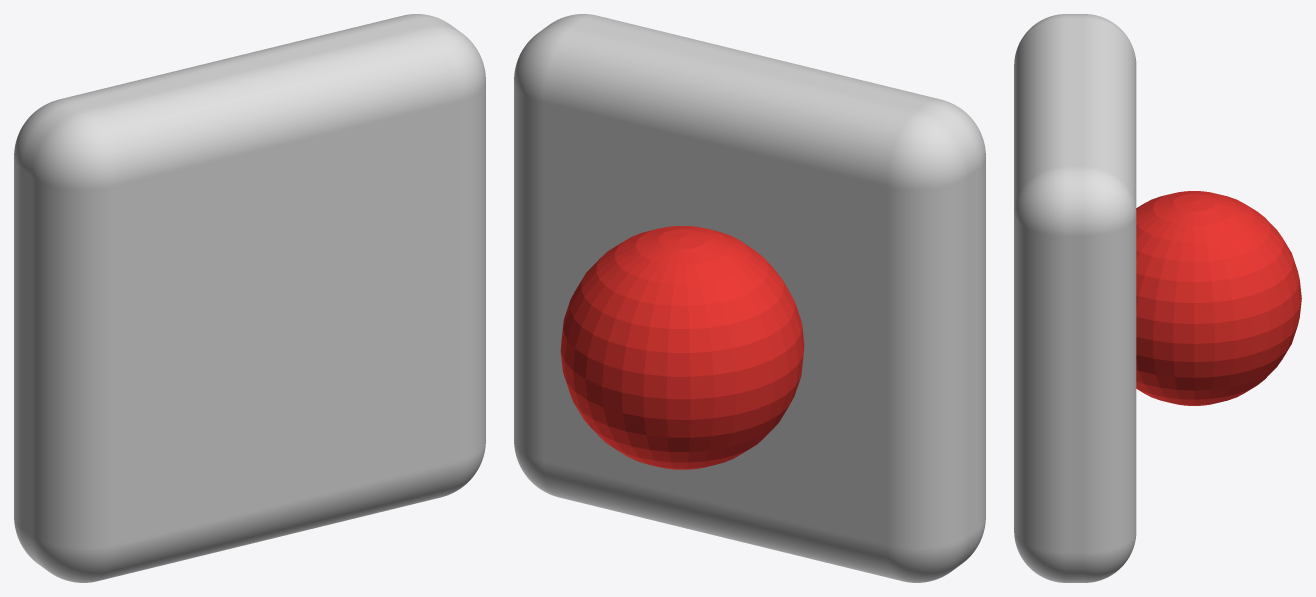
3 renders of one model, left to right at view 1: azimuth 30°, elevation 25°; view 2: azimuth 150°, elevation 25°; view 3: azimuth 270°, elevation 25°, orthographic. The views are drawn at different scales.
Visible parts, largest first — view 1: Cube; view 2: Cube, Sphere; view 3: Cube, Sphere.
Boxes of the visible parts, x1=… form: Cube: x1=14, y1=14, x2=485, y2=582; Cube: x1=514, y1=14, x2=985, y2=582; Sphere: x1=560, y1=226, x2=804, y2=469; Cube: x1=1014, y1=14, x2=1136, y2=582; Sphere: x1=1136, y1=191, x2=1301, y2=405.
Bounding box in the file's own units: 200 × 200 × 127.
